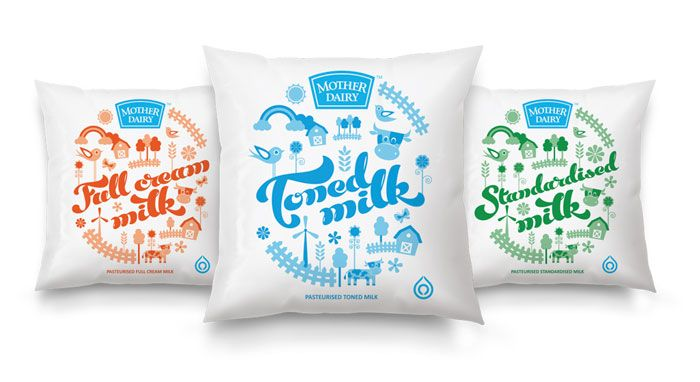Mother_Dairy: (300, 66, 377, 112), (105, 93, 170, 131), (516, 98, 580, 132)
